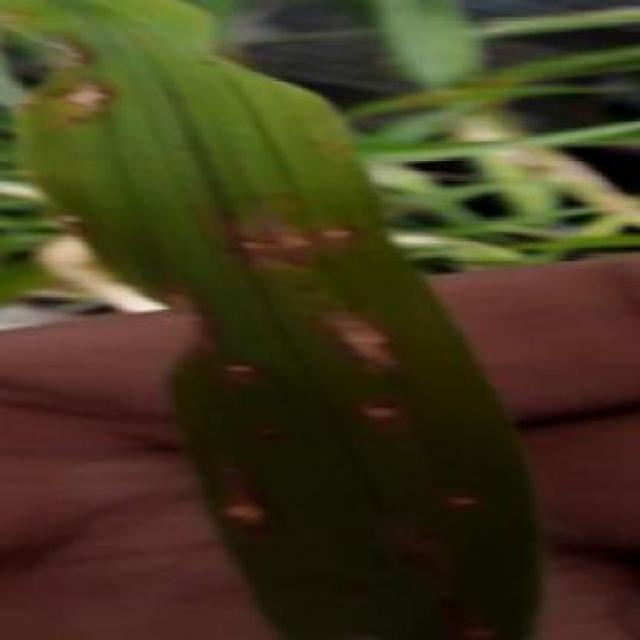Bacterial_Leaf_Blight: (308, 284, 408, 382), (218, 204, 316, 281), (194, 466, 275, 545), (43, 61, 126, 132), (429, 587, 525, 640), (382, 517, 451, 581), (344, 384, 422, 438), (434, 468, 508, 522), (315, 194, 363, 268), (205, 345, 269, 387)
